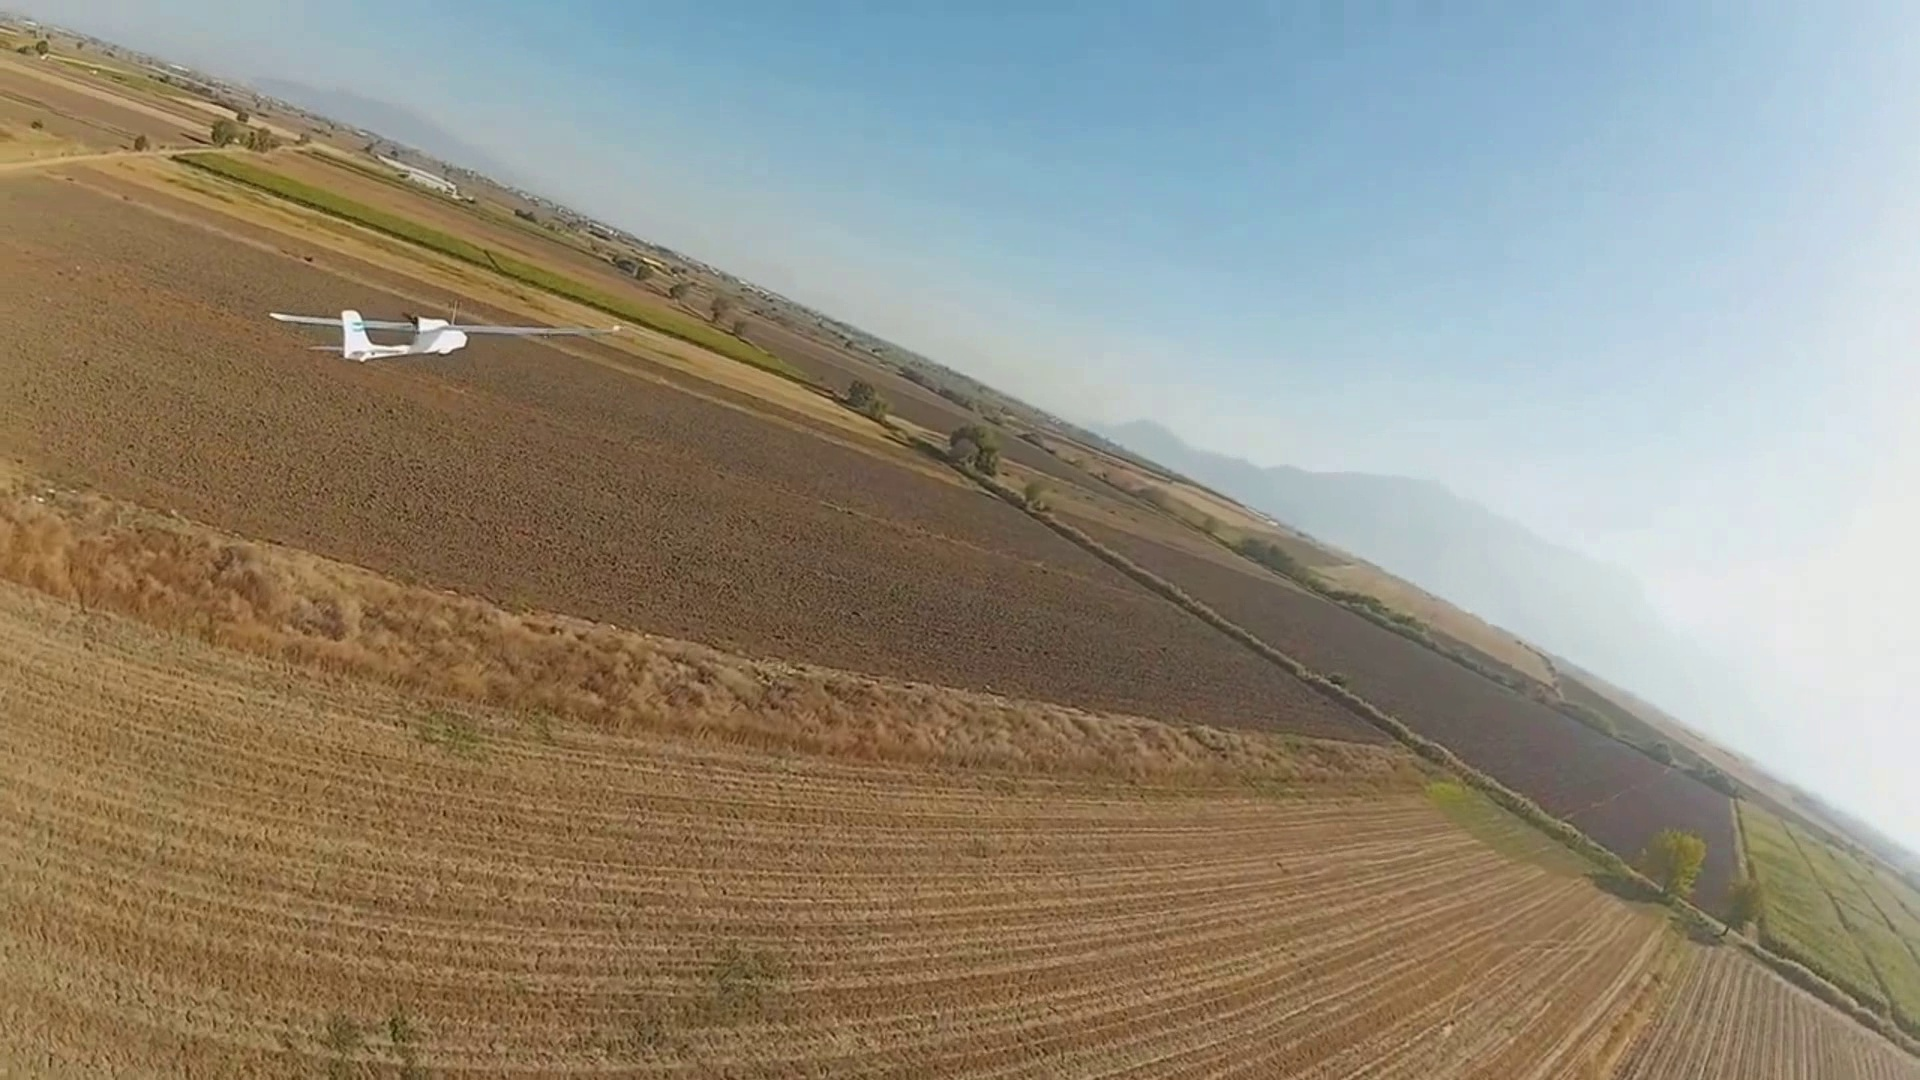airplane: (268, 309, 467, 363)
